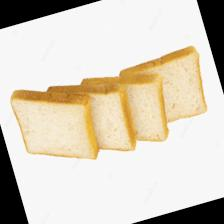bread: (5, 69, 105, 178), (44, 65, 142, 170), (78, 57, 178, 159), (116, 43, 214, 133)
